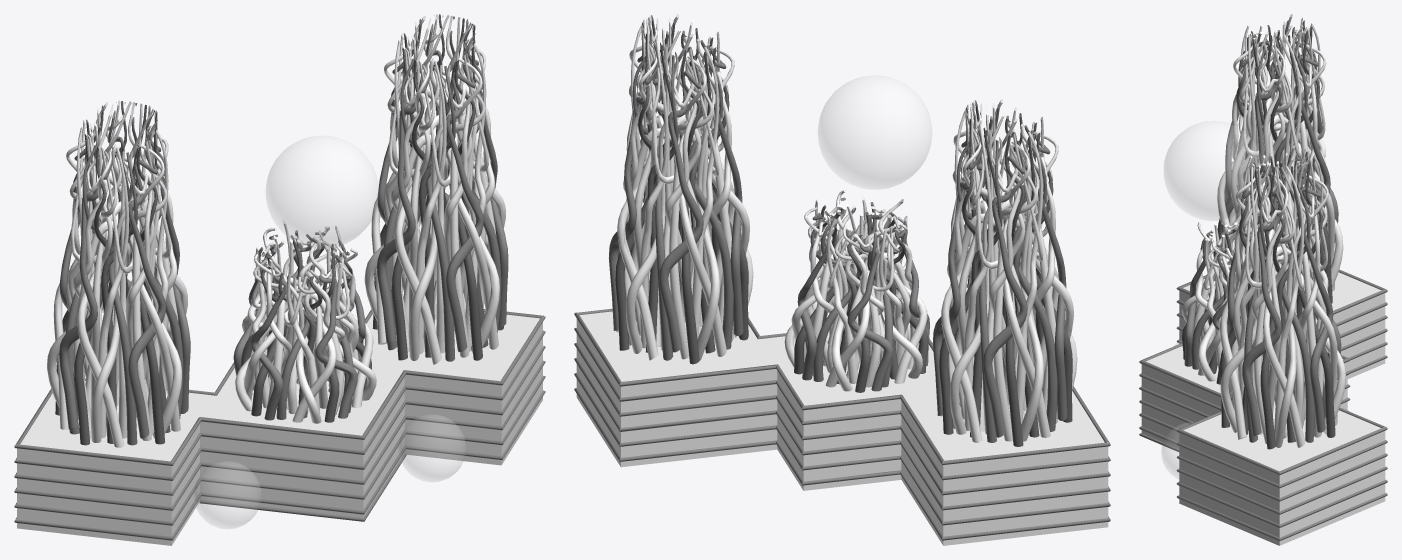
The model's file is 0FF-WHT-v1.glb.
3 views of the same model, side by side, from view 1: azimuth 30°, elevation 25°; view 2: azimuth 150°, elevation 25°; view 3: azimuth 270°, elevation 25° (orthographic). The views are drawn at different scales.
Visible parts, largest first — view 1: WHYT; view 2: WHYT; view 3: WHYT.
Part boxes in pixels (x1=…): WHYT: x1=14, y1=14, x2=545, y2=545; WHYT: x1=574, y1=14, x2=1110, y2=545; WHYT: x1=1139, y1=14, x2=1387, y2=545.
Bounding box in the file's own units: 7.45 × 5.34 × 3.41.
Materials: 2 (1 with a texture image).
